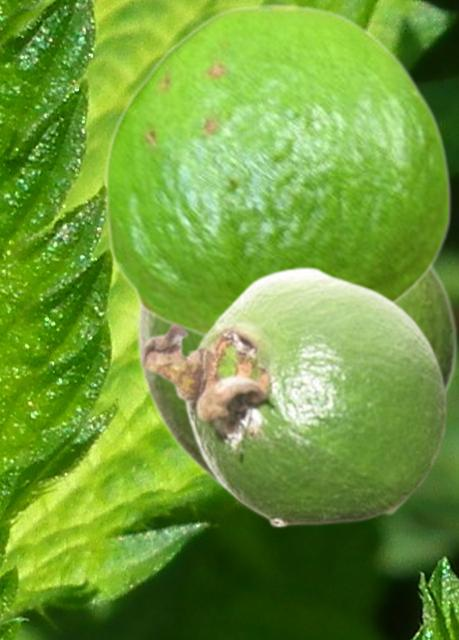guava: (103, 2, 451, 337), (139, 265, 449, 527), (134, 266, 457, 516)
